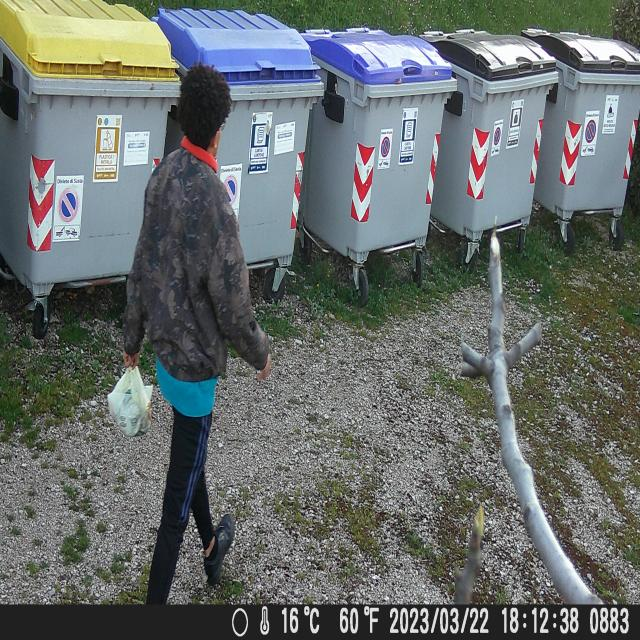sampah-detection: (96, 357, 166, 446)
